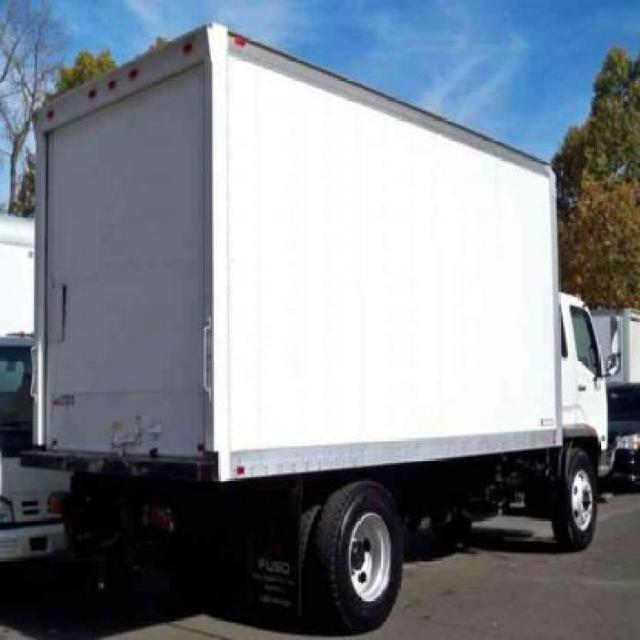truck: (30, 21, 617, 630)
